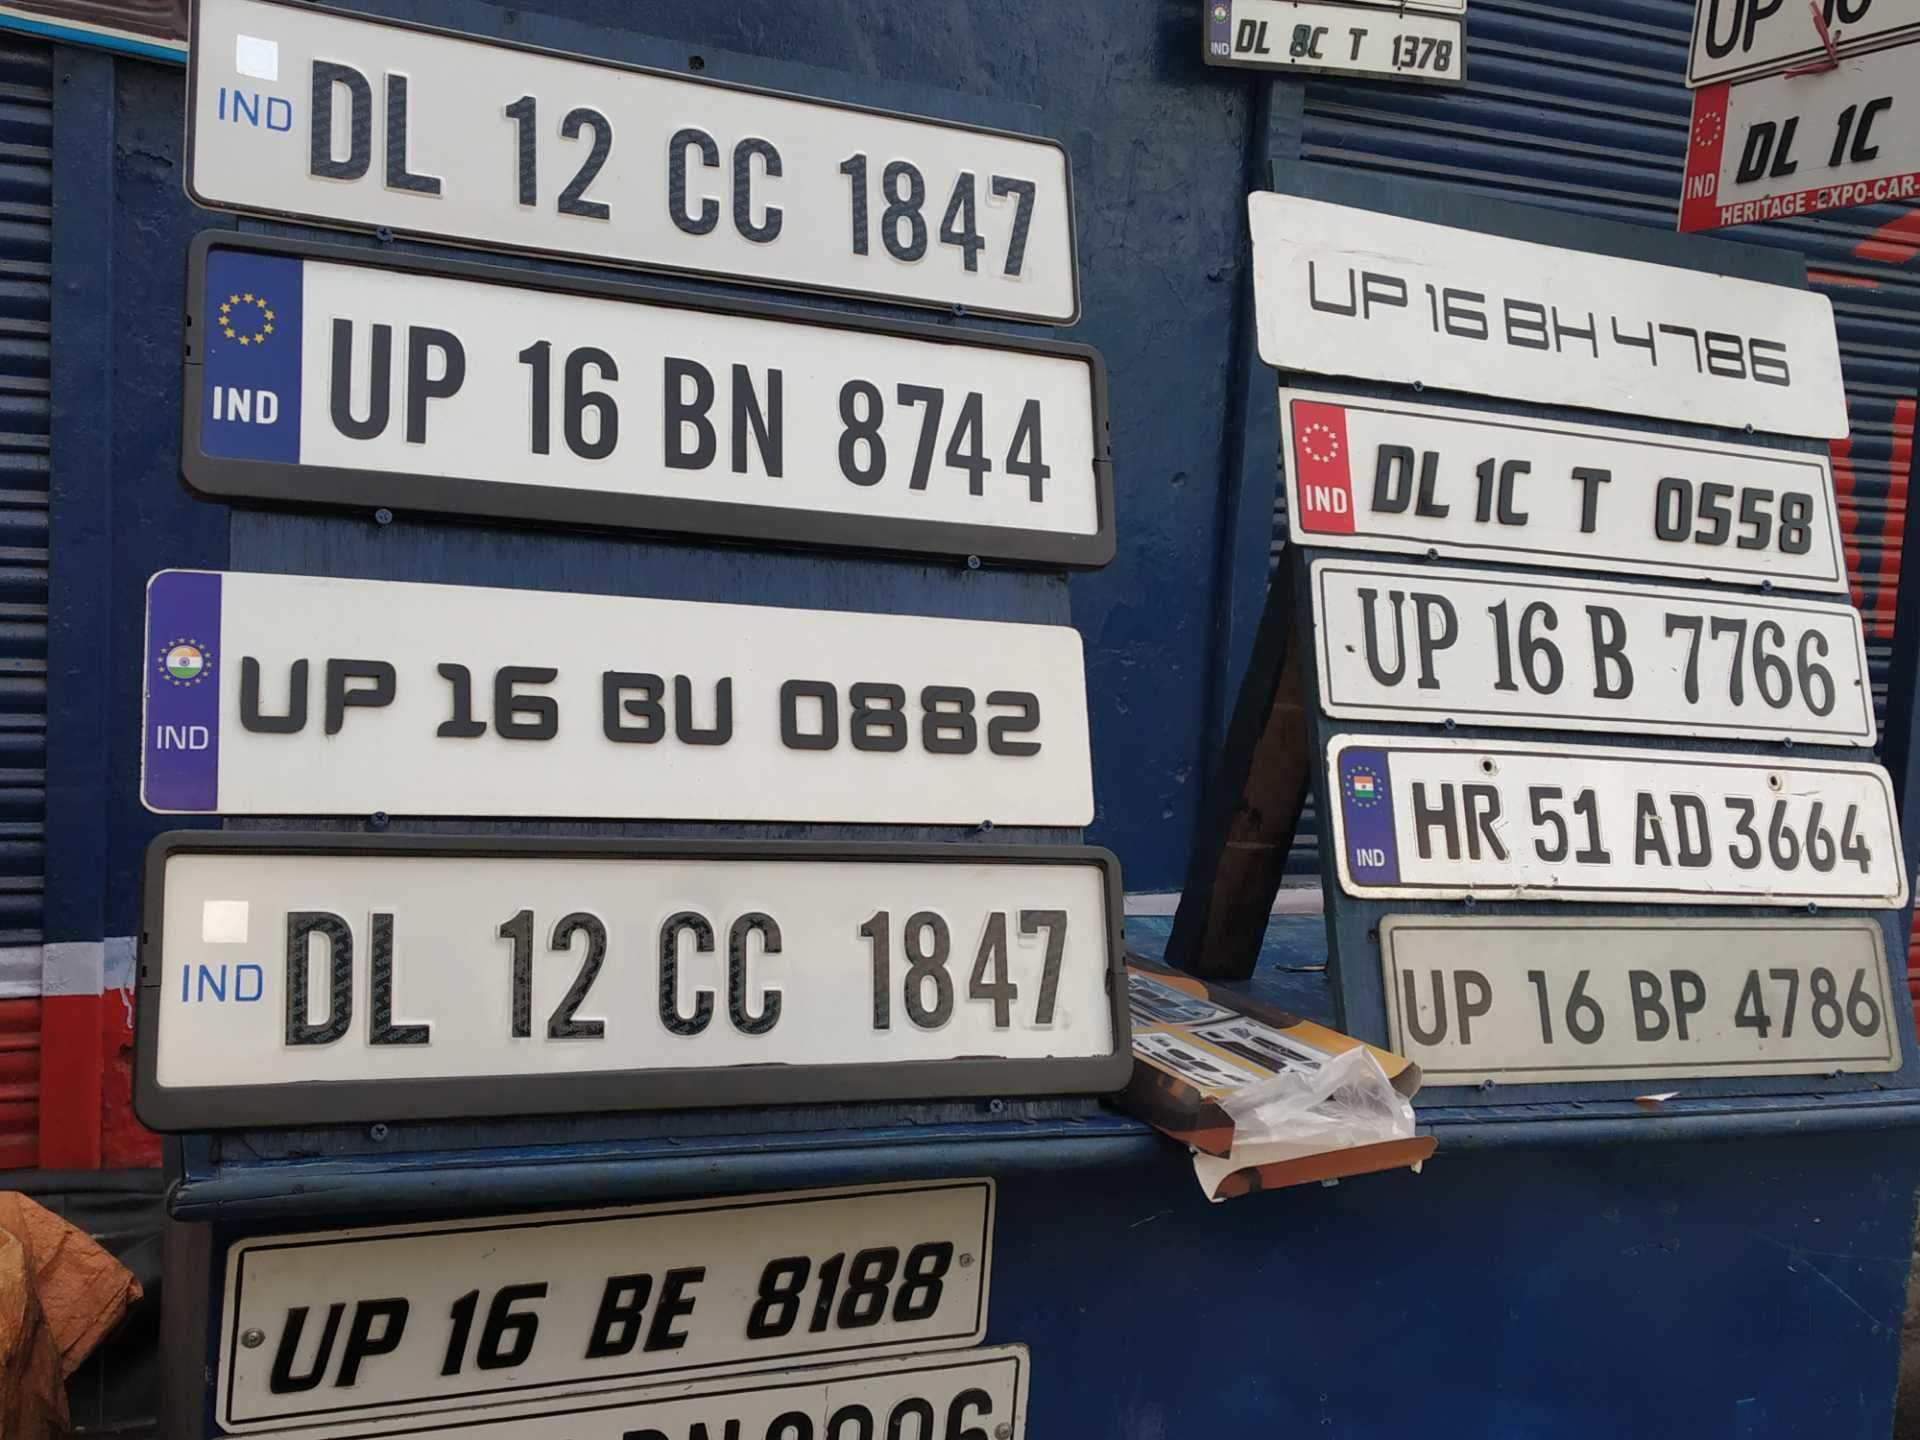numberplate: (189, 233, 1123, 566), (140, 828, 1129, 1120), (198, 2, 1089, 324), (138, 566, 1096, 822), (225, 1177, 1027, 1440), (1245, 188, 1860, 437), (1303, 557, 1885, 751), (1314, 731, 1916, 917), (1276, 382, 1867, 553), (1374, 900, 1909, 1086)
